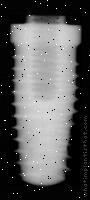Biomet 3i: (0, 12, 83, 187)
